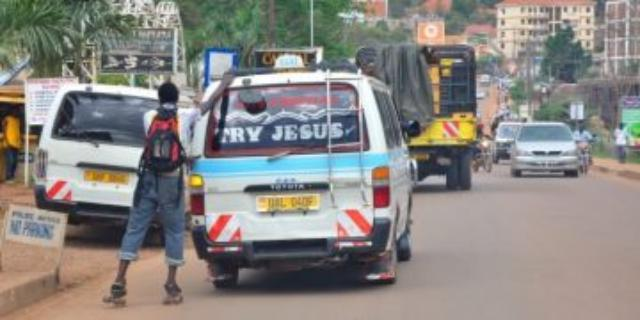van: (191, 55, 419, 285), (31, 80, 123, 223)
